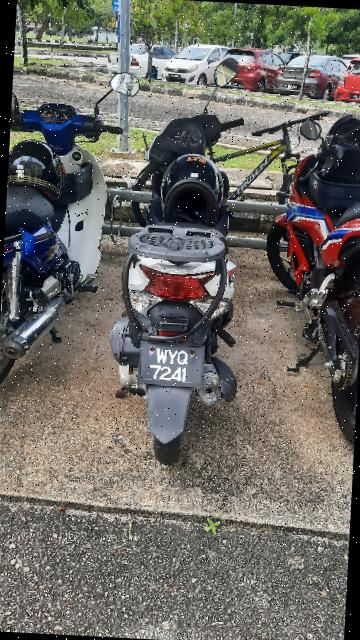License_Plate: (131, 337, 214, 395)
car: (95, 57, 288, 468)
